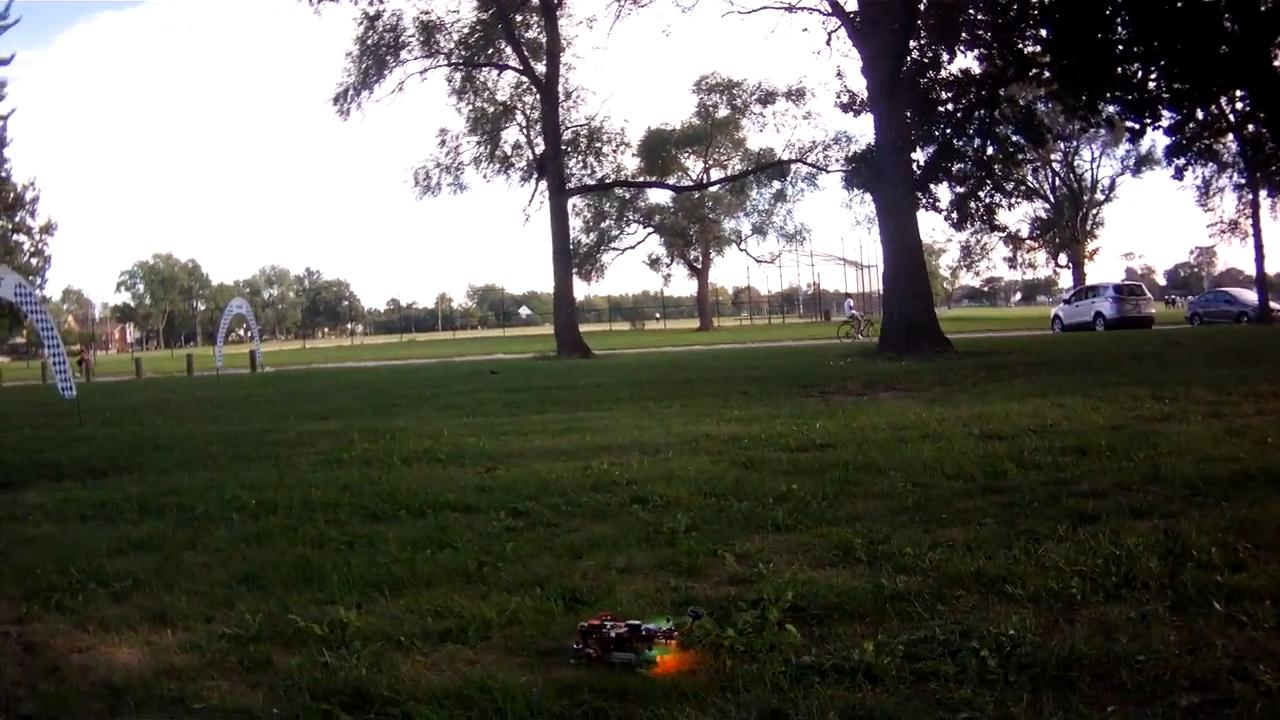gate: (213, 296, 266, 373)
